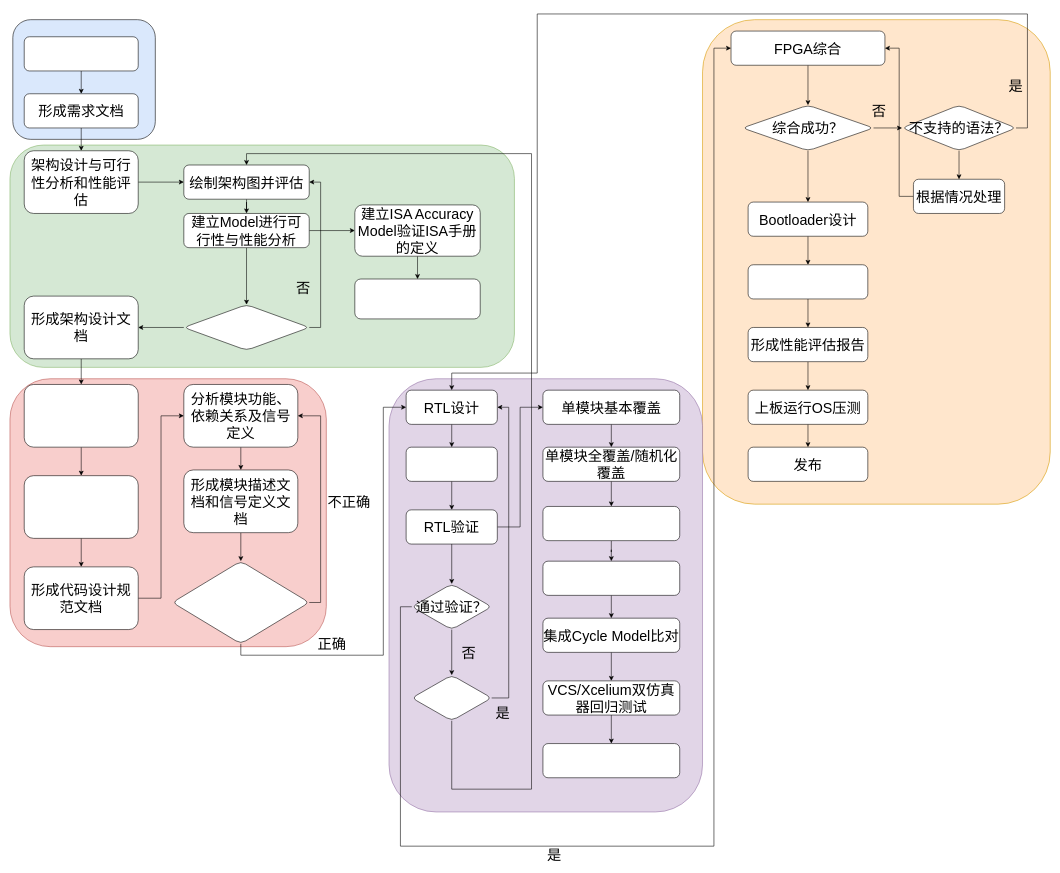
The diagram is 1060 pixels wide and 873 high, and some of its shapes have lost their labels. Each missing label, with the centre of its shape:
RTL Lint检查: (451,464)
上板运行benchmark: (808,281)
单模块Cycle Model比对: (611,523)
带X传播的回归测试: (611,760)
建立Cycle Accurate Model: (417,298)
形成模块划分与层次设计文档: (81,506)
模块划分与层次设计: (81,415)
脚本自动化检查文档正确性: (240,602)
设计错误？: (451,698)
评估通过？: (246,327)
集成基本覆盖: (611,578)
需求分析及评估: (81,53)
